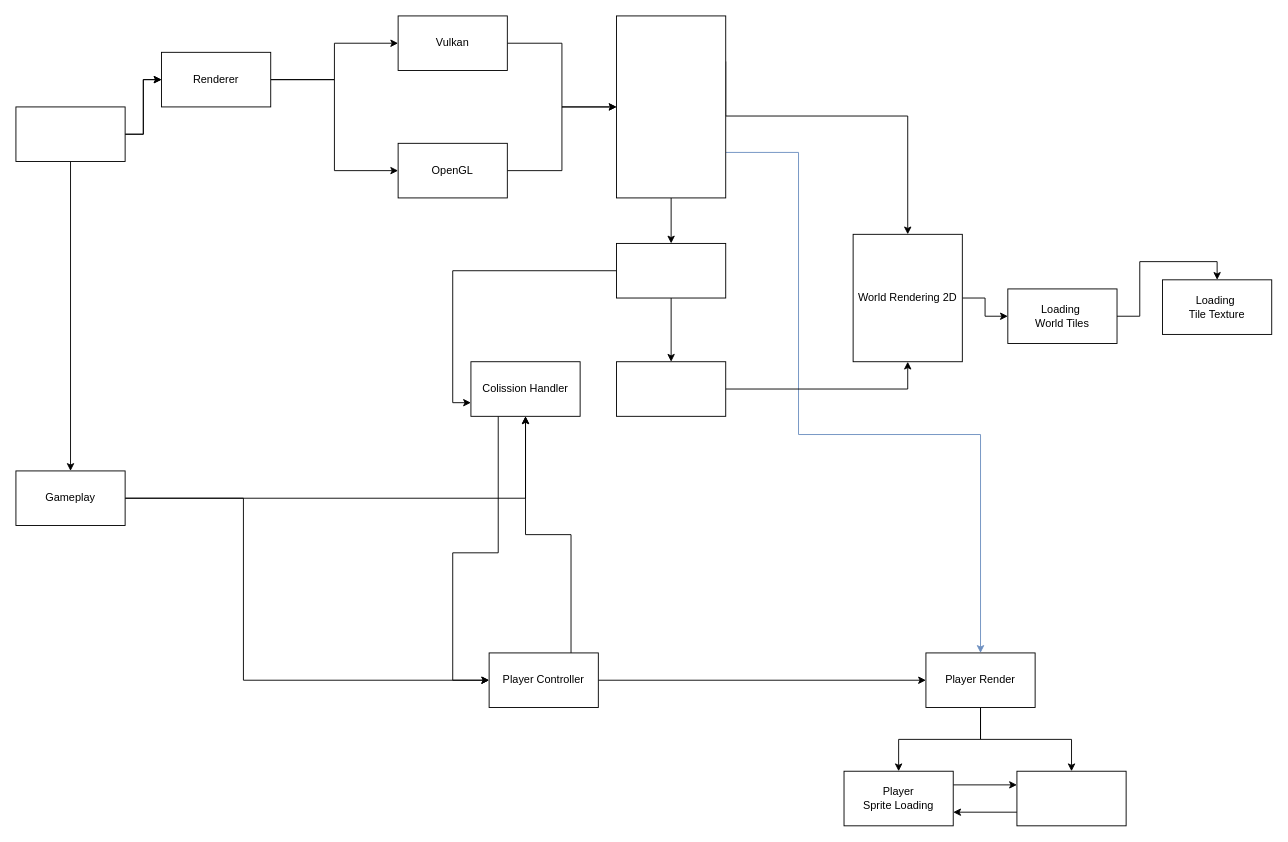
Some shapes in this 1288 by 842 pixel diagram are drawn without their labels. Here are the shapes that lost their labels. From the top down, the centre of each, then its label:
At [671,106]: "Render Pipline".
At [70,134]: "Pokemon Journeys".
At [671,270]: "AssetsLoader".
At [671,388]: "Map Loader".
At [1071,798]: "Plyer Sprite Animation".
